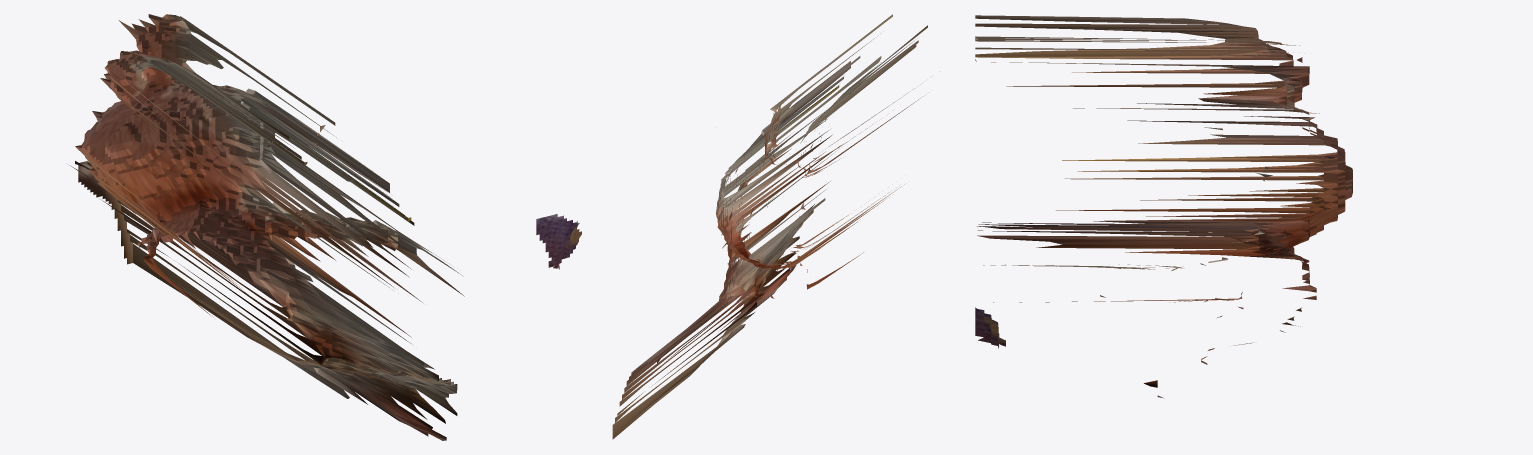
File: frame_00316.glb
3 views of the same model, side by side, from view 1: azimuth 30°, elevation 25°; view 2: azimuth 150°, elevation 25°; view 3: azimuth 270°, elevation 25° (orthographic). The views are drawn at different scales.
Visible parts, largest first — view 1: geometry_0; view 2: geometry_0; view 3: geometry_0.
Boxes of the visible parts, bbox=[...] form: geometry_0: bbox=[70, 14, 581, 440]; geometry_0: bbox=[612, 14, 927, 439]; geometry_0: bbox=[975, 15, 1352, 398].
Size of the model in its own units: 0.107 by 0.1144 by 0.16.
Materials: 1 (1 with a texture image).
